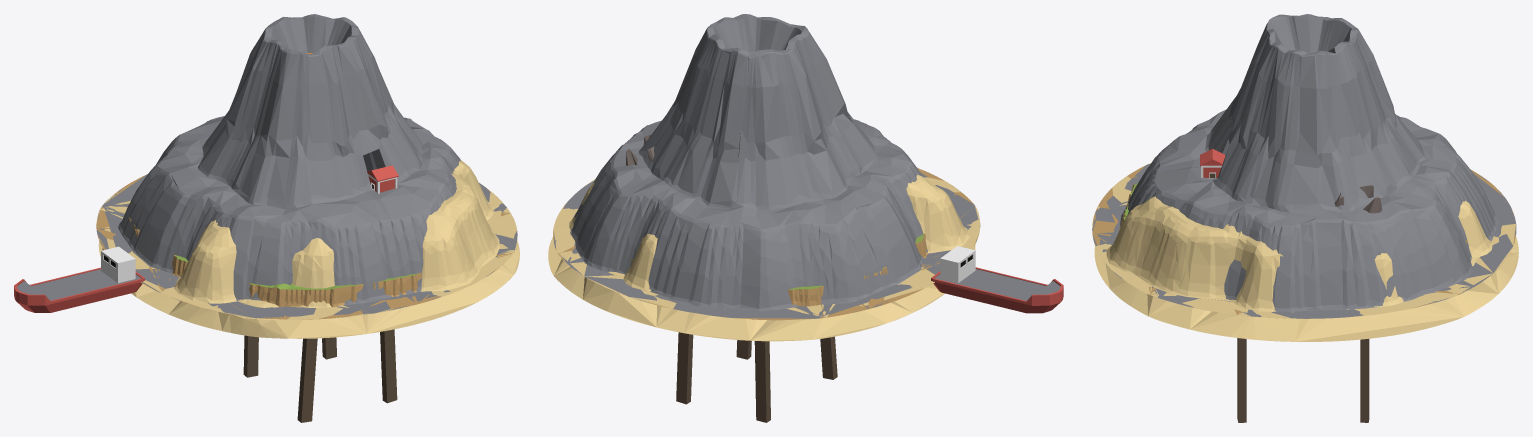
File: boats.fbx
3 renders of one model, left to right at view 1: azimuth 30°, elevation 25°; view 2: azimuth 150°, elevation 25°; view 3: azimuth 270°, elevation 25°, orthographic. The views are drawn at different scales.
Parts seen in each view (by area): view 1: Volcano, CottageIsland, LittleIsles, CargoBoat, Atol, Pier; view 2: Volcano, LittleIsles, CottageIsland, CargoBoat, Pier, Atol; view 3: Volcano, CottageIsland, LittleIsles, Pier, Atol.
Part boxes in pixels (x1,y1,x2,y2): Volcano: (97,14,517,318); CottageIsland: (96,160,517,319); LittleIsles: (98,240,519,338); CargoBoat: (14,246,144,312); Atol: (96,175,516,319); Pier: (243,329,397,422); Volcano: (554,14,980,319); LittleIsles: (548,237,975,341); CottageIsland: (553,135,979,319); CargoBoat: (931,246,1063,313); Pier: (676,332,837,422); Atol: (553,167,980,320); Volcano: (1092,14,1516,318); CottageIsland: (1092,149,1515,318); LittleIsles: (1094,237,1518,341); Pier: (1237,338,1369,422); Atol: (1092,164,1515,318).
Size of the model in its own units: 4845 by 3477 by 3682.
